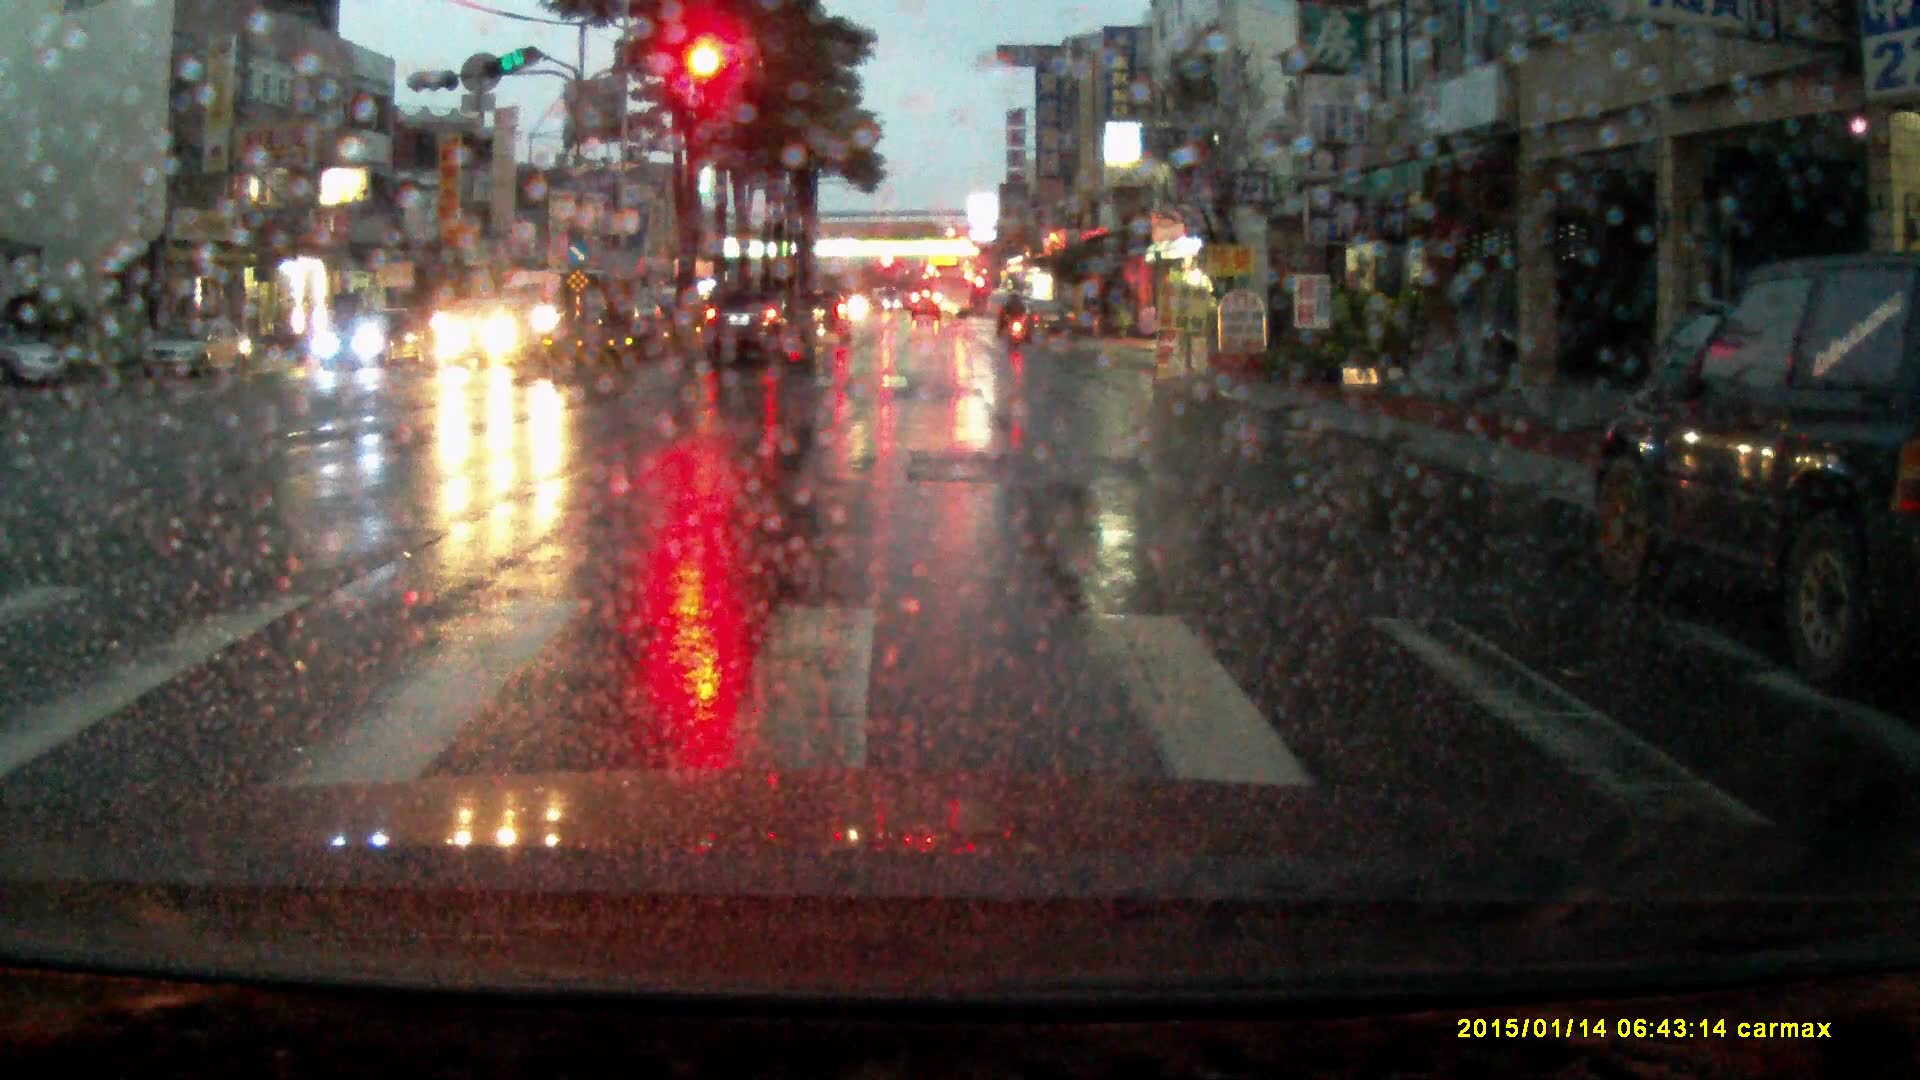rider: (1000, 293, 1034, 349)
vehicle: (1582, 248, 1920, 683), (698, 289, 818, 365), (431, 298, 546, 370), (316, 305, 429, 374), (142, 314, 253, 380), (494, 268, 591, 341), (574, 288, 664, 340), (1, 331, 69, 389), (793, 289, 856, 349), (1017, 300, 1079, 346), (931, 264, 973, 321), (995, 295, 1030, 338), (911, 291, 943, 322)
